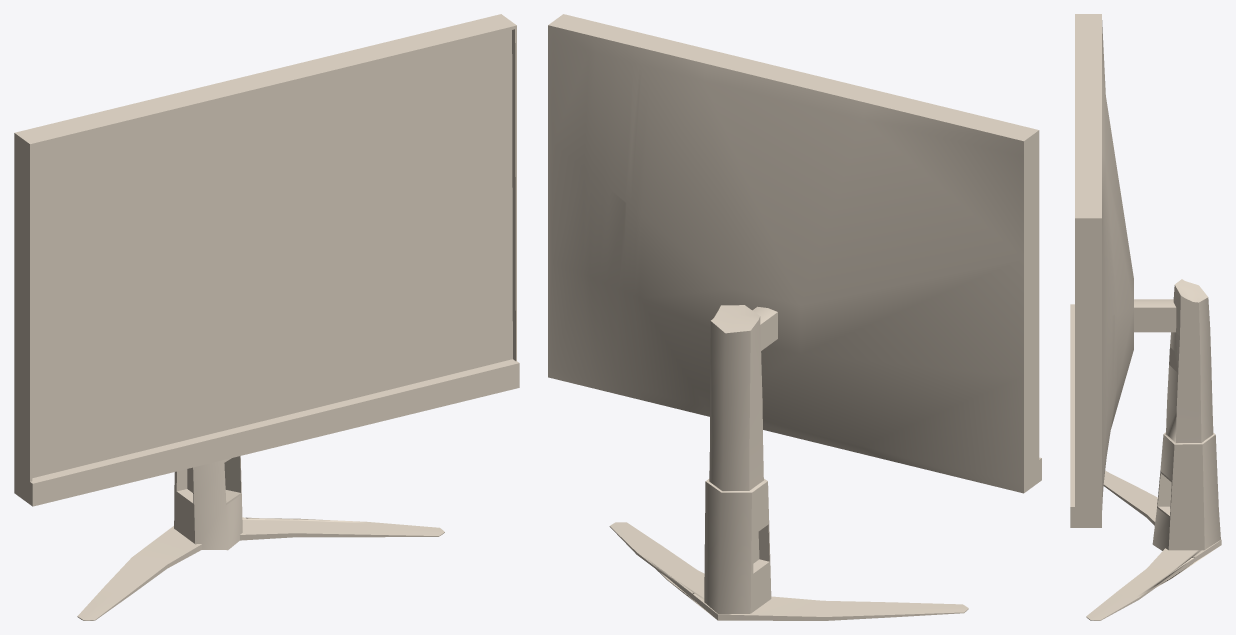
Rendered from 모니터 3 glb번젼.glb.
The picture shows the model from 3 angles, left to right: view 1: azimuth 30°, elevation 25°; view 2: azimuth 150°, elevation 25°; view 3: azimuth 270°, elevation 25°; orthographic projection. The views are drawn at different scales.
Parts seen in each view (by area): view 1: Box006; view 2: Box006; view 3: Box006.
Boxes of the visible parts, box(x1,y1,x2,y2) form: Box006: box(14, 14, 519, 620); Box006: box(548, 14, 1041, 620); Box006: box(1070, 14, 1221, 620).
Size of the model in its own units: 3.93 by 3.84 by 1.23.
